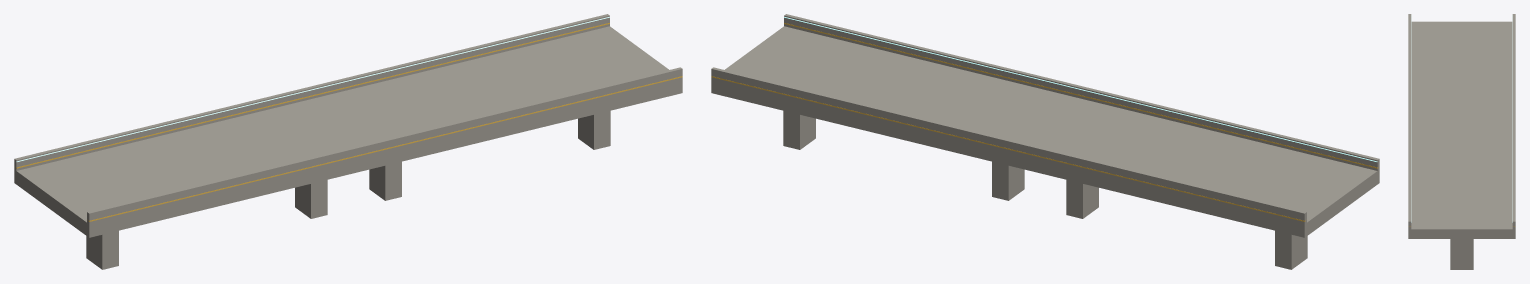
The model's file is cross_overpass.glb.
3 renders of one model, left to right at view 1: azimuth 30°, elevation 25°; view 2: azimuth 150°, elevation 25°; view 3: azimuth 270°, elevation 25°, orthographic. The views are drawn at different scales.
Visible parts, largest first — view 1: overpass; view 2: overpass; view 3: overpass.
Boxes of the visible parts, x1,y1,x2,y2 form: overpass: (14, 14, 682, 269); overpass: (711, 14, 1379, 269); overpass: (1408, 14, 1515, 269).
Bounding box in the file's own units: 64 × 9.1 × 14.02.
